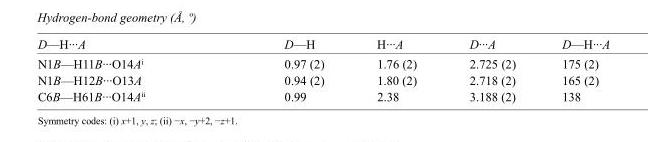table: (36, 37, 609, 102)
table column: (36, 37, 213, 102), (213, 37, 349, 102), (442, 37, 538, 102), (349, 37, 442, 102), (538, 37, 609, 102)
table row: (36, 53, 609, 71), (36, 71, 609, 88), (36, 37, 609, 53), (36, 88, 609, 102)
